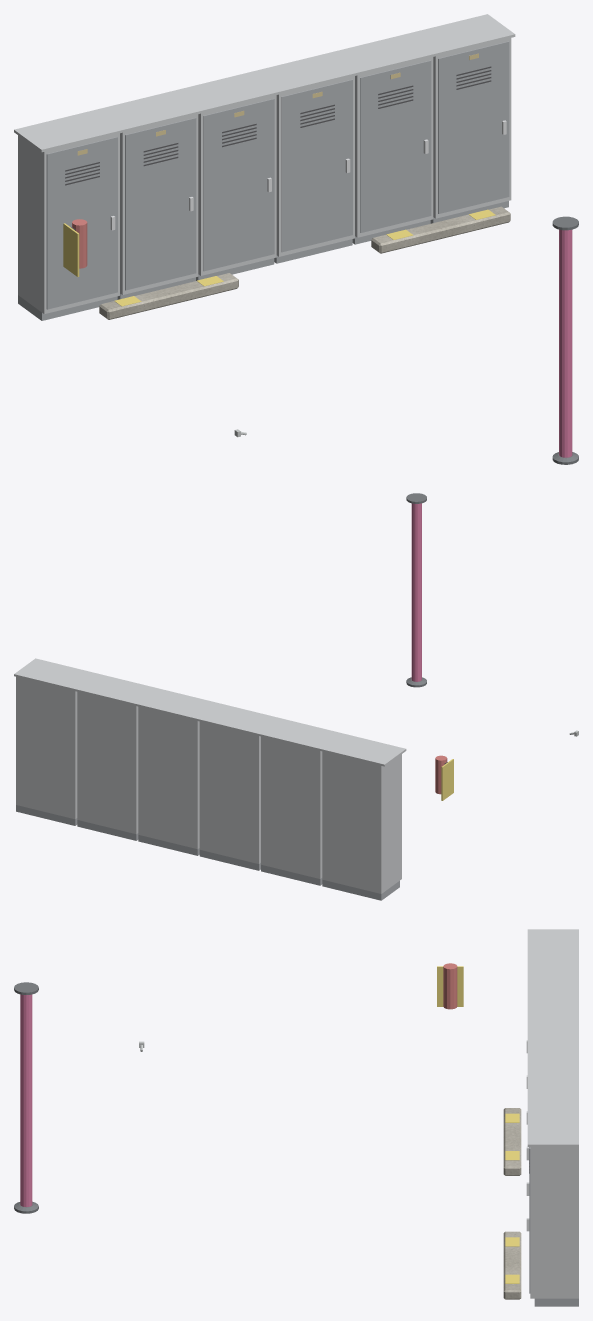
File: carport.glb
The picture shows the model from 3 angles, top to bottom: view 1: azimuth 30°, elevation 25°; view 2: azimuth 150°, elevation 25°; view 3: azimuth 270°, elevation 25°; orthographic projection. The views are drawn at different scales.
Parts seen in each view (by area): view 1: carport_steel, carport_metal, carport_concrete, carport_accent, carport_dark, carport_paint_y, carport_steel_d; view 2: carport_metal, carport_steel, carport_accent; view 3: carport_metal, carport_accent, carport_concrete, carport_paint_y, carport_steel, carport_vinyl_r, carport_steel_d.
Boxes of the visible parts, x1,y1,x2,y2 form: carport_steel: [18, 41, 509, 320]; carport_metal: [14, 14, 515, 313]; carport_concrete: [99, 206, 510, 319]; carport_accent: [559, 229, 572, 457]; carport_dark: [65, 66, 491, 230]; carport_paint_y: [63, 209, 495, 306]; carport_steel_d: [552, 216, 578, 464]; carport_metal: [14, 658, 406, 893]; carport_steel: [16, 805, 399, 900]; carport_accent: [411, 503, 421, 681]; carport_metal: [527, 929, 578, 1298]; carport_accent: [20, 994, 32, 1207]; carport_concrete: [503, 1108, 521, 1299]; carport_paint_y: [437, 966, 519, 1283]; carport_steel: [529, 1147, 578, 1306]; carport_vinyl_r: [443, 963, 457, 1009]; carport_steel_d: [14, 982, 38, 1213].
Bounding box in the file's own units: 5.9 × 2.75 × 6.37.
11 materials, 1 textured.
